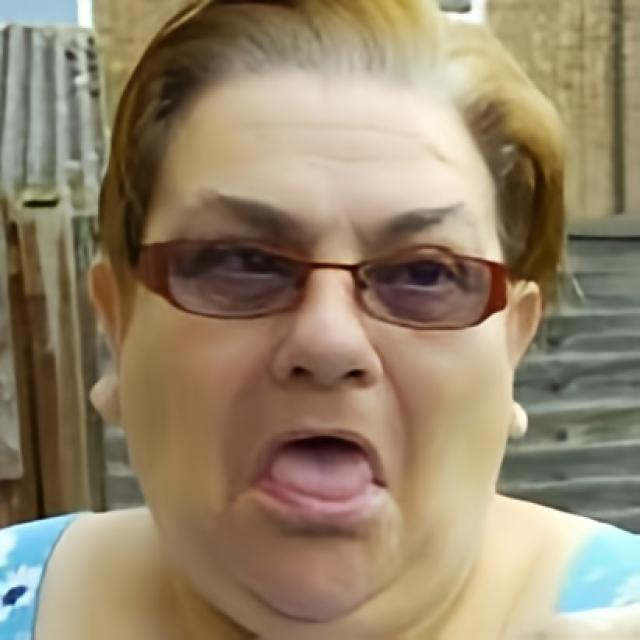disgust: (120, 60, 514, 622)
